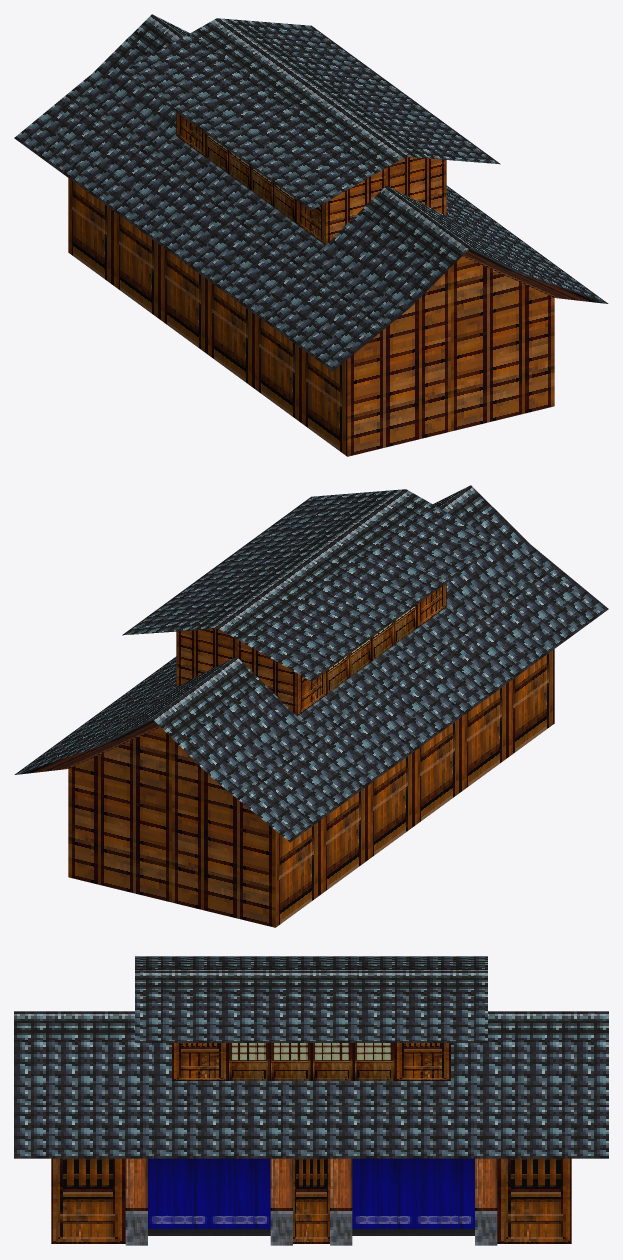
File: house.fbx
The picture shows the model from 3 angles, top to bottom: view 1: azimuth 30°, elevation 25°; view 2: azimuth 150°, elevation 25°; view 3: azimuth 270°, elevation 25°; orthographic projection. The views are drawn at different scales.
Visible parts, largest first — view 1: Plane.001, Plane.004, Plane, Plane.007, Plane.008, Plane.009; view 2: Plane.001, Plane.004, Plane, Plane.007, Plane.008, Plane.009; view 3: Plane.001, Plane.006, Plane, Plane.003, Plane.007, Plane.008, Plane.005.
Boxes of the visible parts, <box> form: Plane.001: <box>14,14,608,371</box>; Plane.004: <box>325,157,554,456</box>; Plane: <box>68,178,347,456</box>; Plane.007: <box>206,134,295,223</box>; Plane.008: <box>176,112,325,244</box>; Plane.009: <box>406,156,607,303</box>; Plane.001: <box>14,485,608,842</box>; Plane.004: <box>68,629,297,927</box>; Plane: <box>275,649,554,927</box>; Plane.007: <box>327,605,416,694</box>; Plane.008: <box>297,583,446,715</box>; Plane.009: <box>15,627,218,774</box>; Plane.001: <box>14,956,608,1158</box>; Plane.006: <box>148,1158,474,1228</box>; Plane: <box>51,1158,571,1243</box>; Plane.003: <box>125,1158,497,1245</box>; Plane.007: <box>227,1043,395,1080</box>; Plane.008: <box>172,1043,450,1080</box>; Plane.005: <box>148,1229,474,1235</box>.
Size of the model in its own units: 8 by 6.7 by 16.
Materials: 10 (10 with a texture image).
